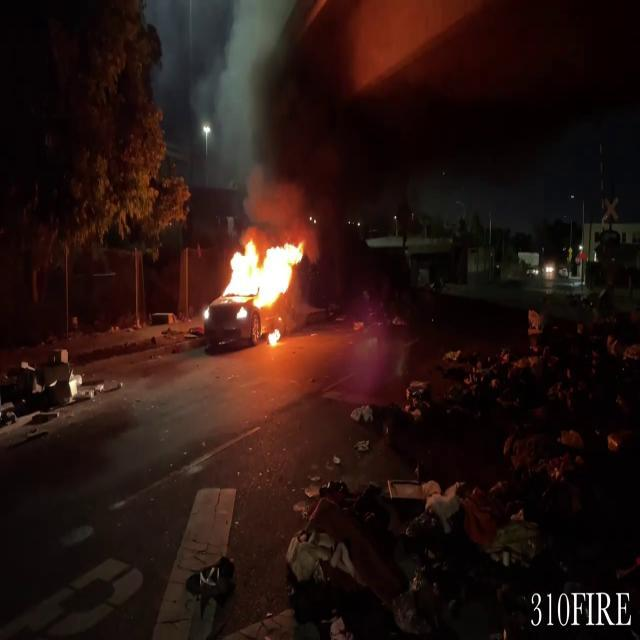Fire: (214, 231, 308, 323)
Smoke: (238, 65, 335, 239)
